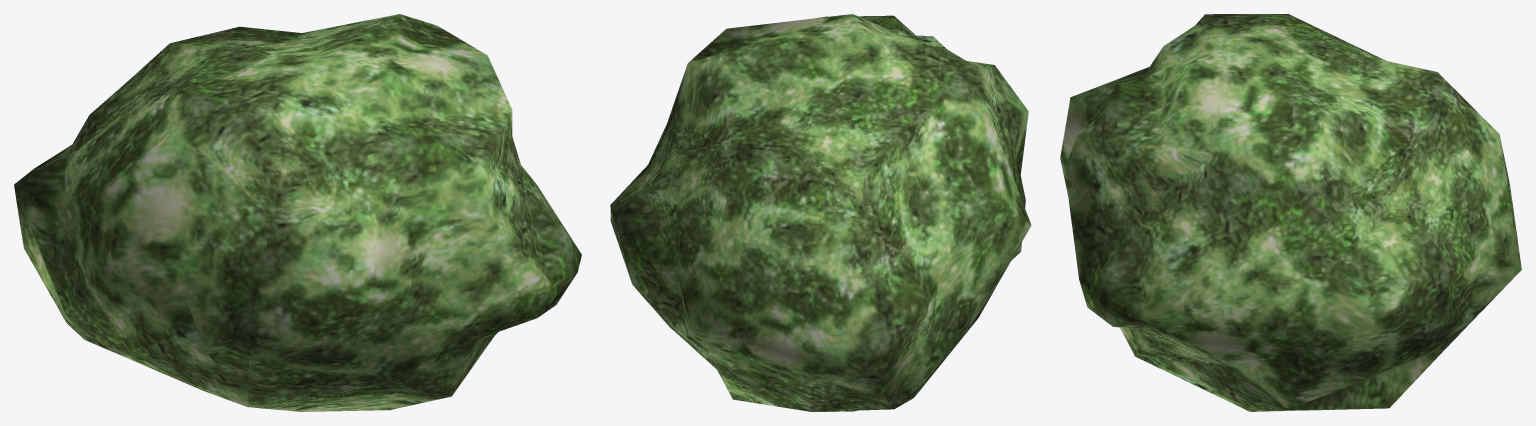
The model's file is asteroid_acid_large_s01_l2.fbx.
3 views of the same model, side by side, from view 1: azimuth 30°, elevation 25°; view 2: azimuth 150°, elevation 25°; view 3: azimuth 270°, elevation 25° (orthographic). The views are drawn at different scales.
Visible parts, largest first — view 1: mesh_node; view 2: mesh_node; view 3: mesh_node.
Boxes of the visible parts, bbox=[...] form: mesh_node: bbox=[14, 14, 581, 411]; mesh_node: bbox=[610, 14, 1031, 411]; mesh_node: bbox=[1060, 14, 1521, 411].
Size of the model in its own units: 107 by 91.23 by 113.
Materials: 1 (1 with a texture image).
